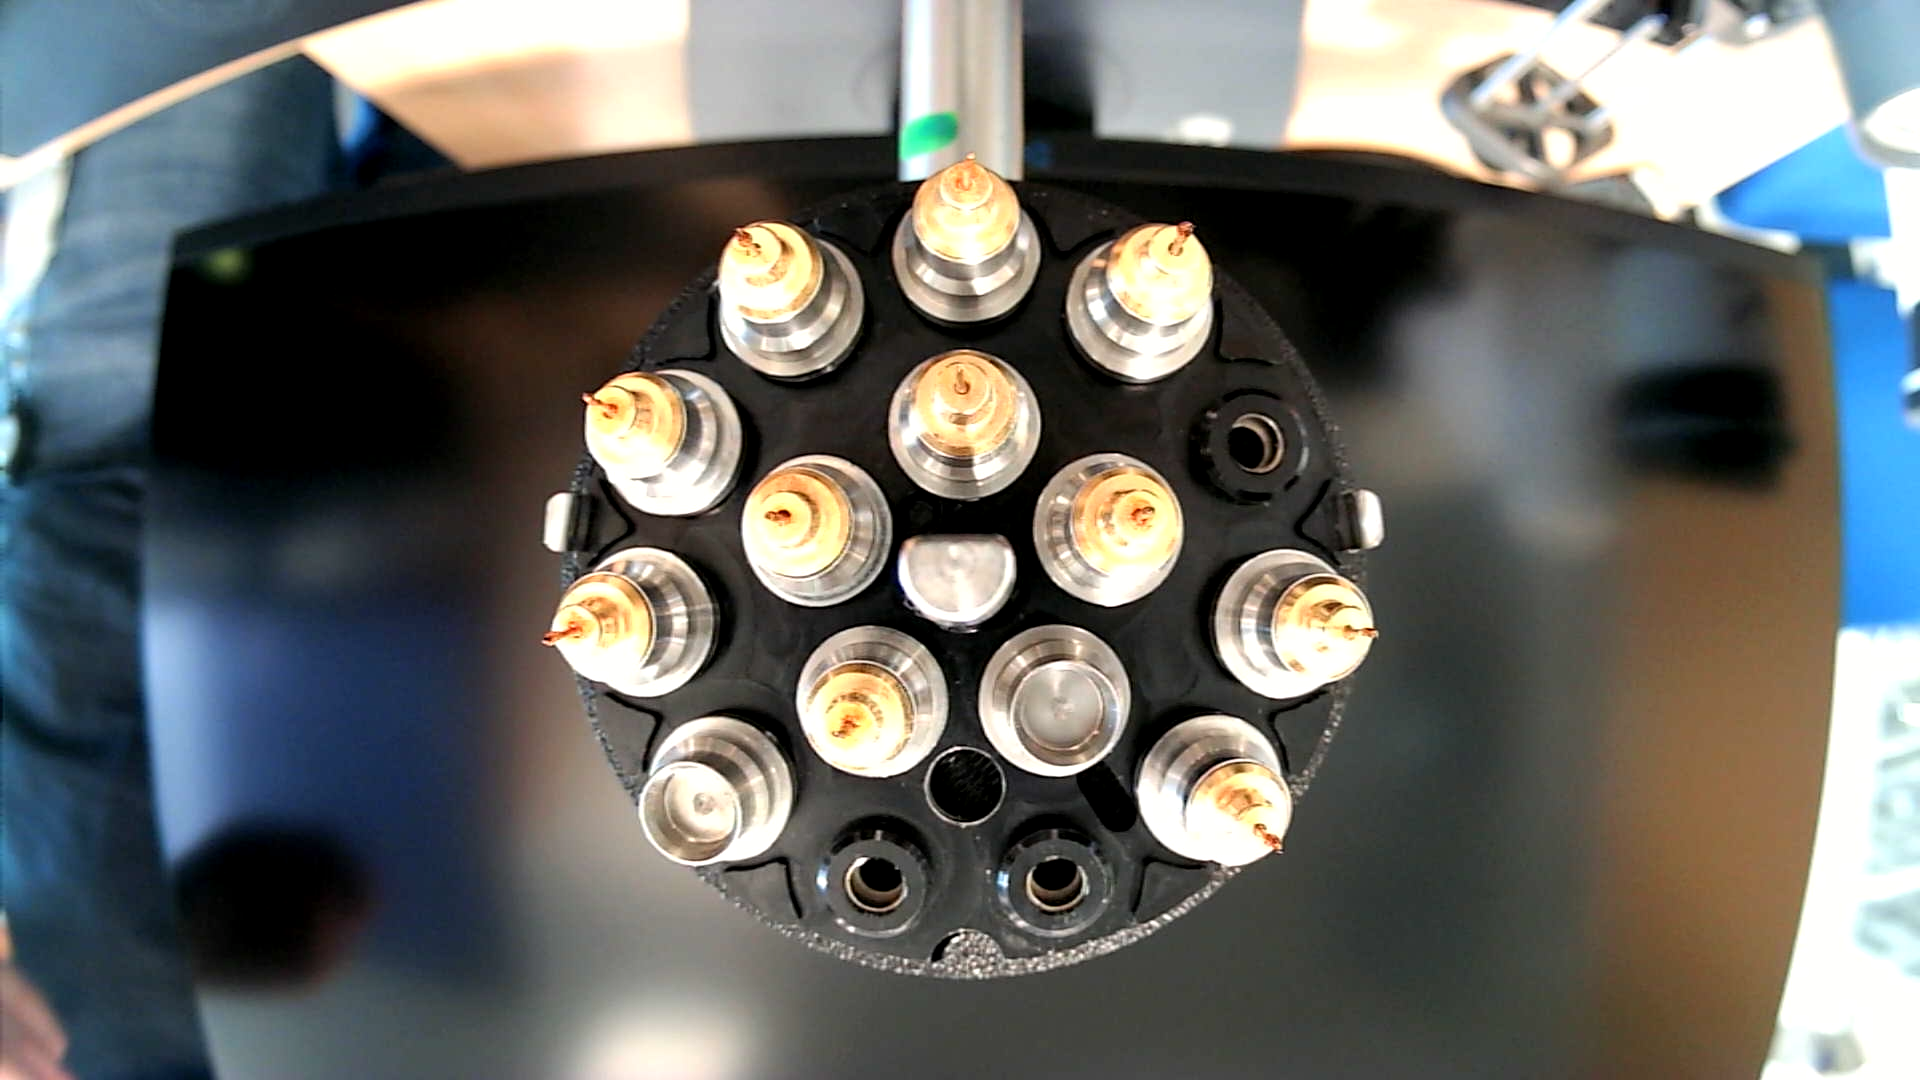adapter: (637, 715, 795, 874), (978, 622, 1133, 781)
empty: (811, 814, 945, 945), (992, 814, 1116, 943), (1189, 382, 1313, 508)
hole: (924, 744, 1007, 831)
pin: (541, 546, 725, 700), (1207, 546, 1379, 703), (890, 152, 1043, 327), (578, 364, 746, 522), (713, 219, 869, 389), (1064, 214, 1215, 385), (1135, 709, 1296, 868), (884, 345, 1044, 502), (793, 624, 952, 781), (738, 451, 893, 611), (1030, 448, 1184, 607)
rod: (899, 525, 1021, 632)
